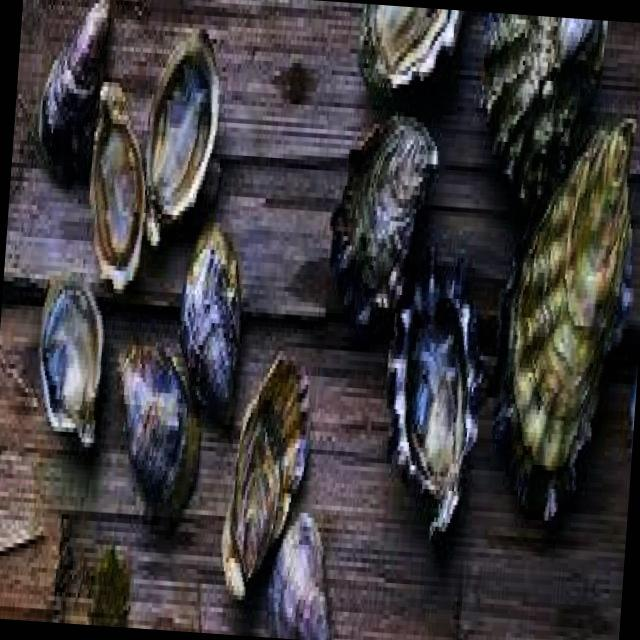Oyster-Closed: (506, 121, 634, 502), (476, 13, 607, 196), (222, 353, 310, 603), (340, 114, 439, 331), (36, 0, 114, 190), (120, 343, 199, 515), (180, 225, 248, 416), (358, 6, 458, 106), (261, 514, 334, 640)
Oyster-Open: (387, 282, 490, 502), (147, 31, 220, 221), (35, 275, 107, 466), (87, 85, 151, 291)
